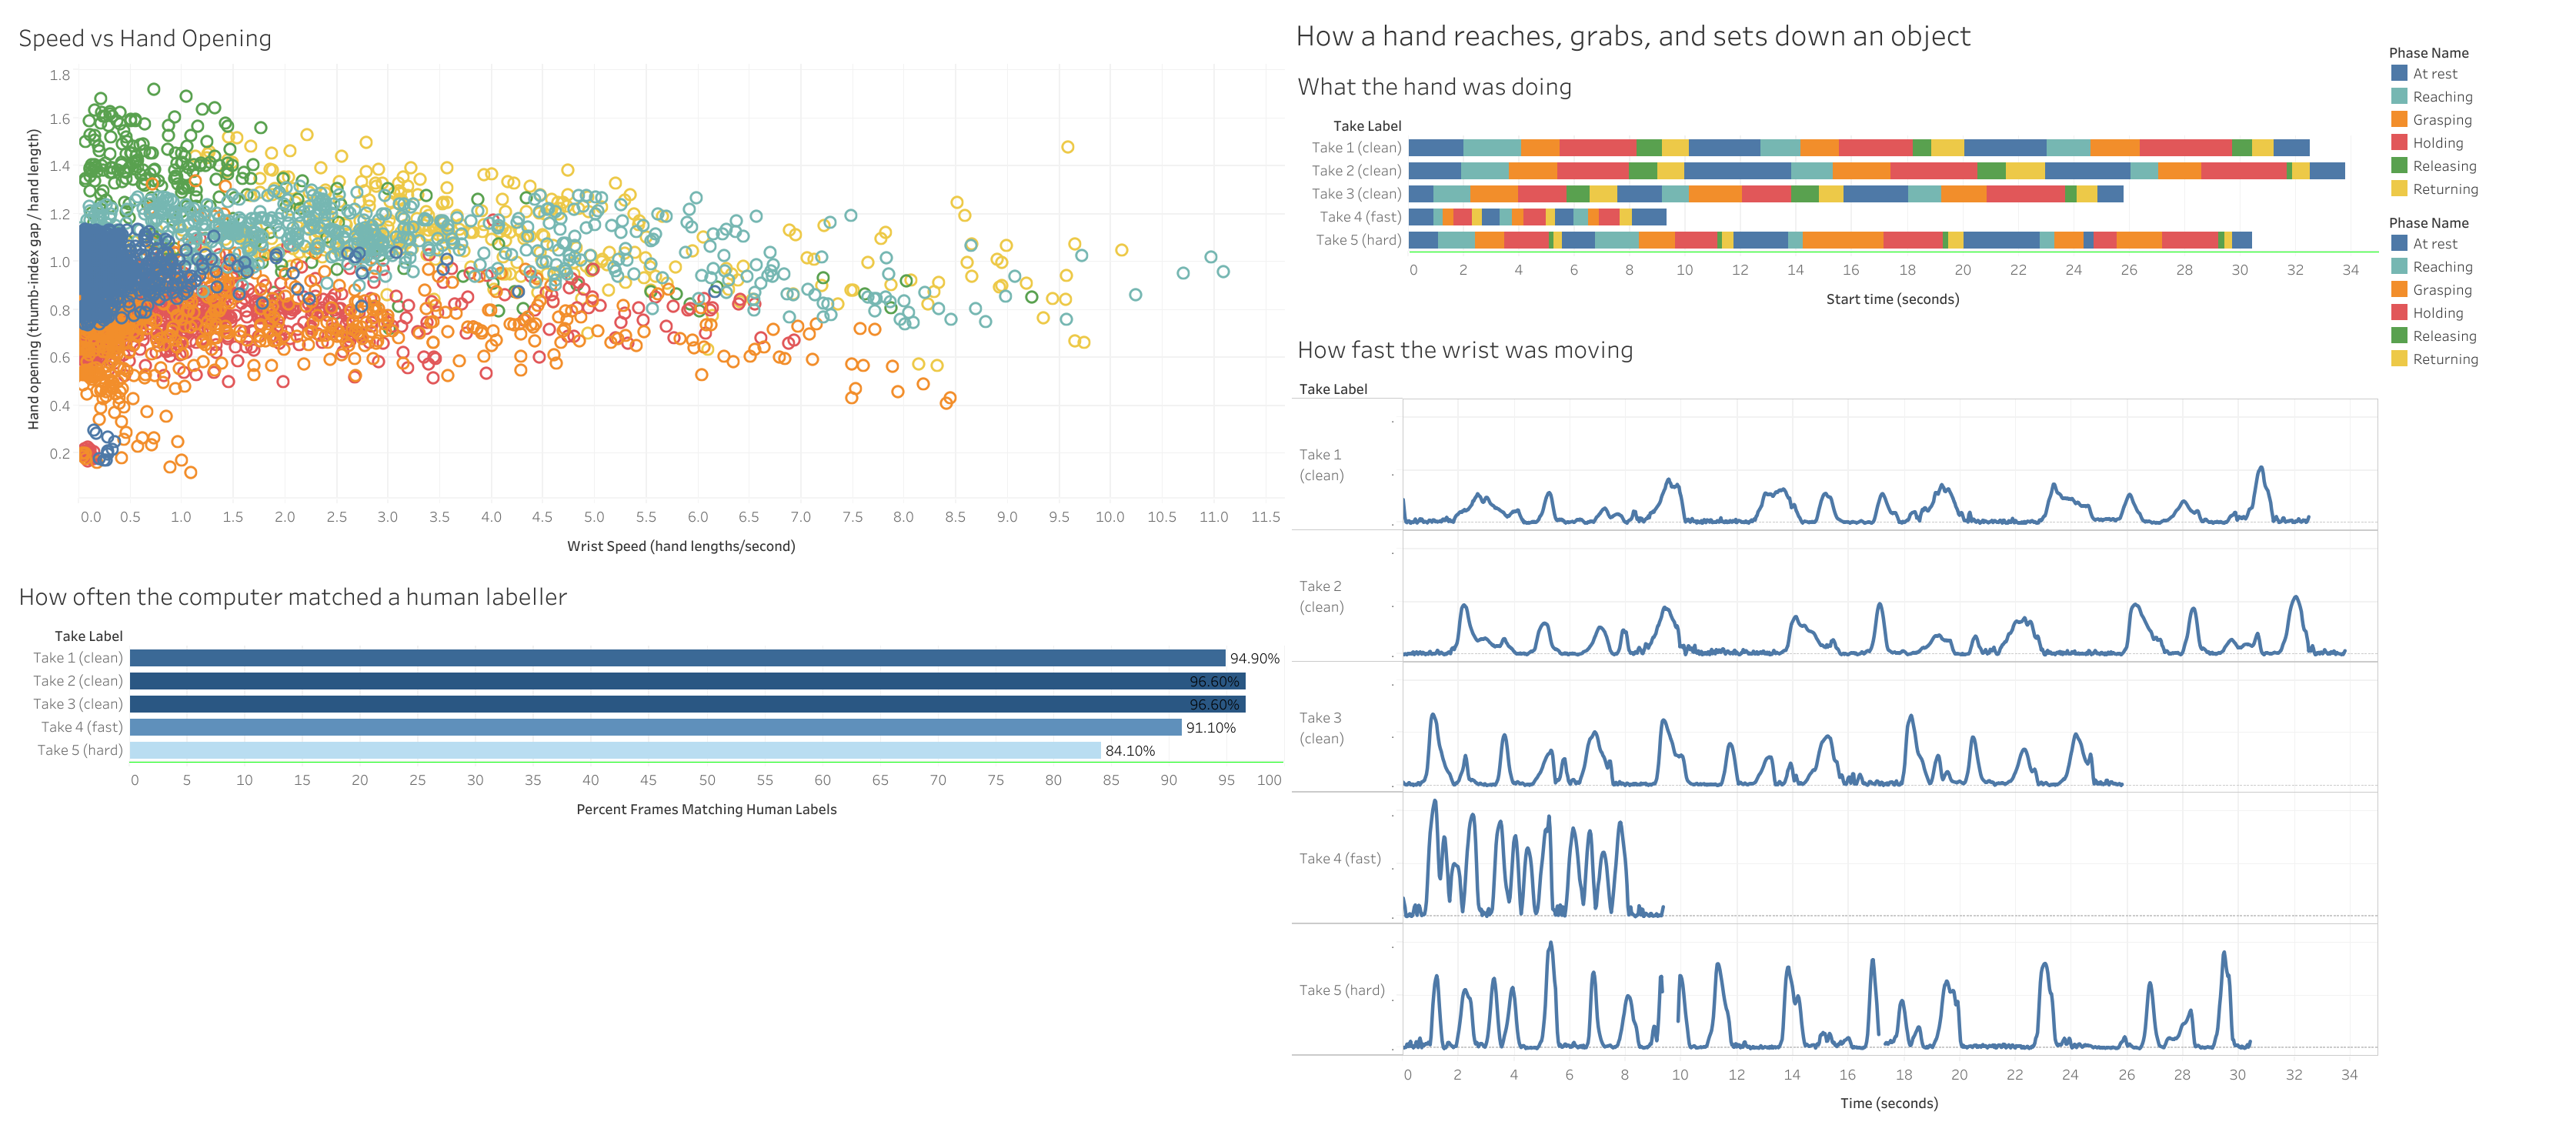

Layout of this report page (visuals, bound fields, positions):
{"tool":"tableau","page":{"name":"Dashboard 2","canvas":[1000,1000],"units":"permille","ordinal":0},"visuals":[{"type":"worksheet","title":"Sheet 4","mark":"Automatic","rows":["aperture"],"cols":["speed"],"box":[3.9,8.1,496.1,491.9]},{"type":"title","box":[500,8.1,418.4,42.3]},{"type":"legend","title":"Sheet 1","param":"[federated.06mm9ll1ioyky11diztii18fgk0g].[sum:duration_s:qk]","box":[918.5,8.1,77.7,22.2]},{"type":"legend","title":"Sheet 1","param":"[federated.06mm9ll1ioyky11diztii18fgk0g].[none:phase_name:nk]","box":[918.5,30.2,77.7,148]},{"type":"worksheet","title":"Sheet 1","mark":"GanttBar","rows":["take_label"],"cols":["start_s"],"box":[500,50.4,418.4,229.6]},{"type":"legend","title":"Sheet 4","param":"[federated.1ud2cr7153saak1ffa96g06xplu0].[none:phase_name:nk]","box":[918.5,178.3,77.7,148]},{"type":"worksheet","title":"Sheet 2","mark":"Line","rows":["take_label","speed"],"cols":["t_s"],"box":[500,280,418.4,712]},{"type":"worksheet","title":"Sheet 3","mark":"Bar","rows":["take_label"],"cols":["percent_frames_matching_human_labels"],"box":[3.9,500,496.1,491.9]}]}

Visuals, with their boxes on the dashboard's canvas, which has no fixed pixel size, in thousandths of its width and height (x1, y1, x2, y2). These are canvas units, not pixel positions in the 2576x1135 screenshot, which may show the page scaled, cropped or inside an application window:
"Sheet 4" worksheet: 4:8:500:500
title: 500:8:918:50
"Sheet 1" legend: 918:8:996:30
"Sheet 1" legend: 918:30:996:178
"Sheet 1" worksheet (GanttBar marks): 500:50:918:280
"Sheet 4" legend: 918:178:996:326
"Sheet 2" worksheet (Line marks): 500:280:918:992
"Sheet 3" worksheet (Bar marks): 4:500:500:992
